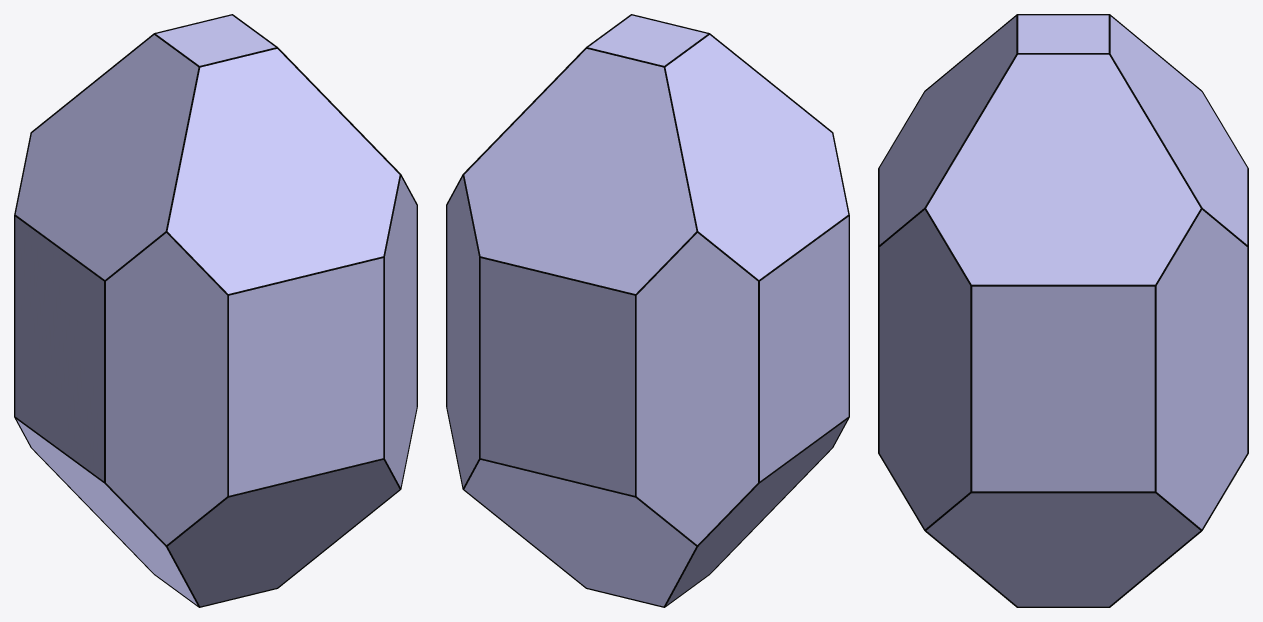
File: quiz_103.dae
3 views of the same model, side by side, from view 1: azimuth 30°, elevation 25°; view 2: azimuth 150°, elevation 25°; view 3: azimuth 270°, elevation 25° (orthographic). The views are drawn at different scales.
Parts seen in each view (by area): view 1: visgeom_0, geometry_edges0_0_quiz_103.off; view 2: visgeom_0, geometry_edges0_0_quiz_103.off; view 3: visgeom_0, geometry_edges0_0_quiz_103.off.
Part boxes in pixels (<box>): visgeom_0: <box>15,15,416,606</box>; geometry_edges0_0_quiz_103.off: <box>14,14,417,607</box>; visgeom_0: <box>447,15,848,606</box>; geometry_edges0_0_quiz_103.off: <box>446,14,849,607</box>; visgeom_0: <box>879,15,1247,606</box>; geometry_edges0_0_quiz_103.off: <box>878,14,1248,607</box>.
Bounding box in the file's own units: 2.01 × 2.01 × 3.32.
